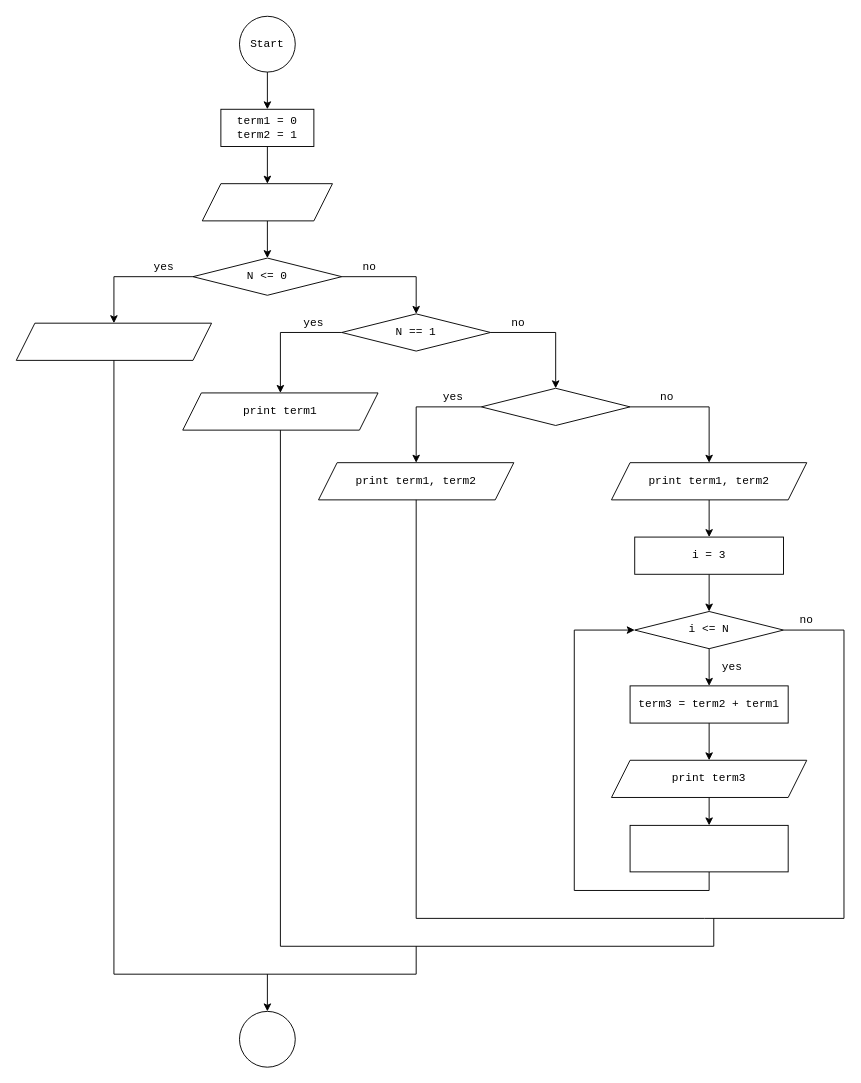
Image size: 861x1083. Some labels were removed from this diagram. The shapes that lost their labels are listed below. From the top down, each one's centre as x and y in pixels, then its label:
[266,202]: read N
[113,341]: print "No terminos"
[555,406]: N == 2
[708,848]: term1 = term2 term2 = term3 i = i + 1
[267,1038]: End
